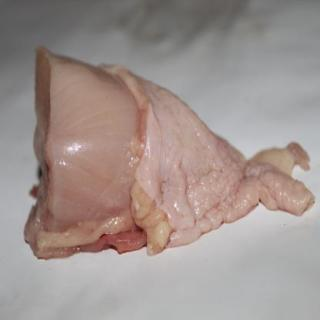Ayam: (34, 53, 316, 255)
